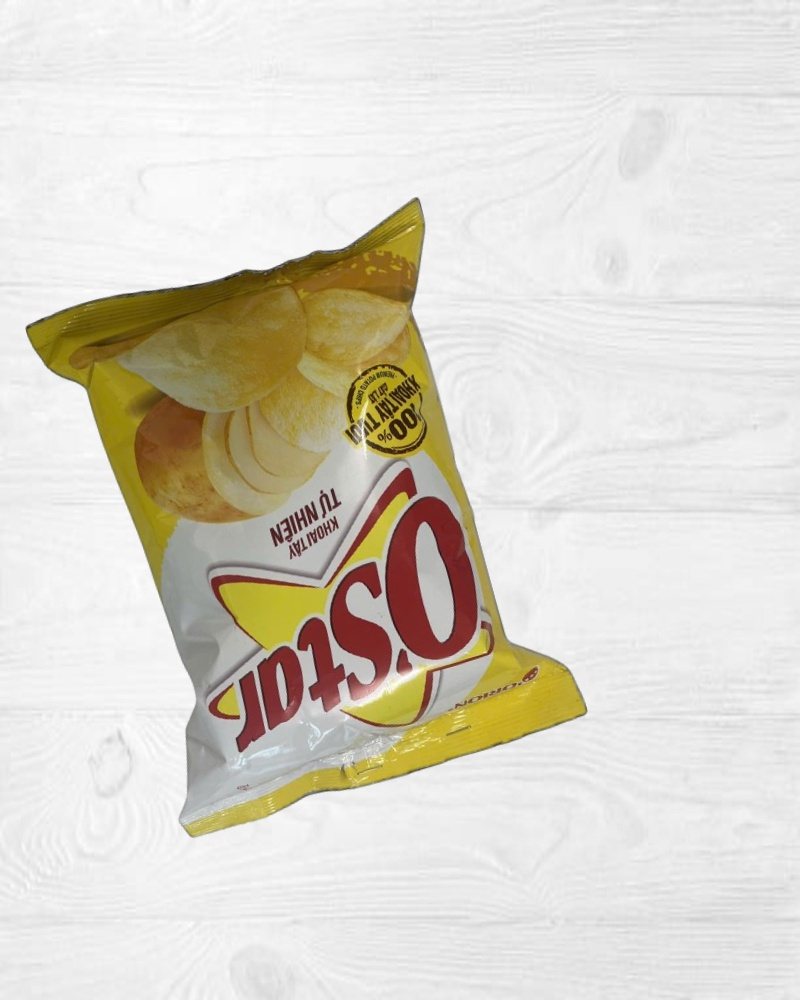Snack cua: (26, 196, 589, 838)
